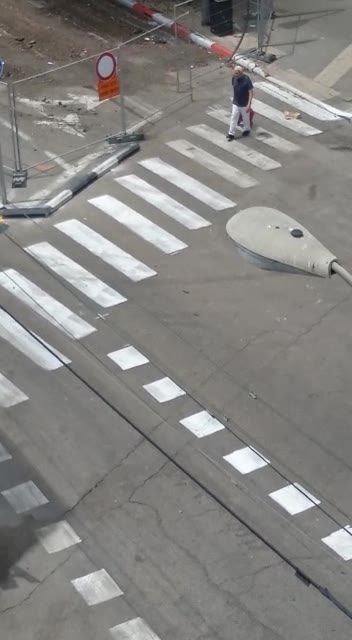crosswalk: (1, 76, 331, 383)
person: (214, 46, 264, 156)
